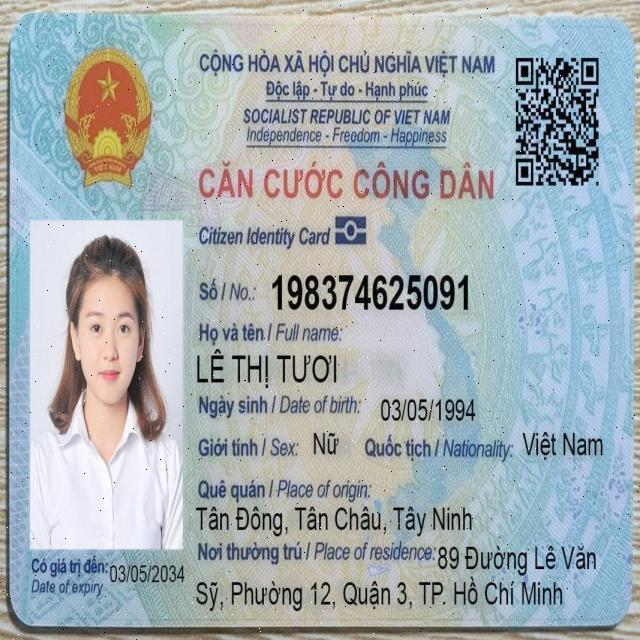current_place: (192, 576, 566, 615), (435, 540, 600, 578)
dob: (376, 390, 479, 429)
expire_date: (107, 558, 188, 589)
gender: (311, 424, 341, 462)
id: (267, 267, 475, 320)
name: (192, 343, 343, 392)
nationality: (520, 426, 606, 466)
origin_place: (194, 498, 476, 542)
